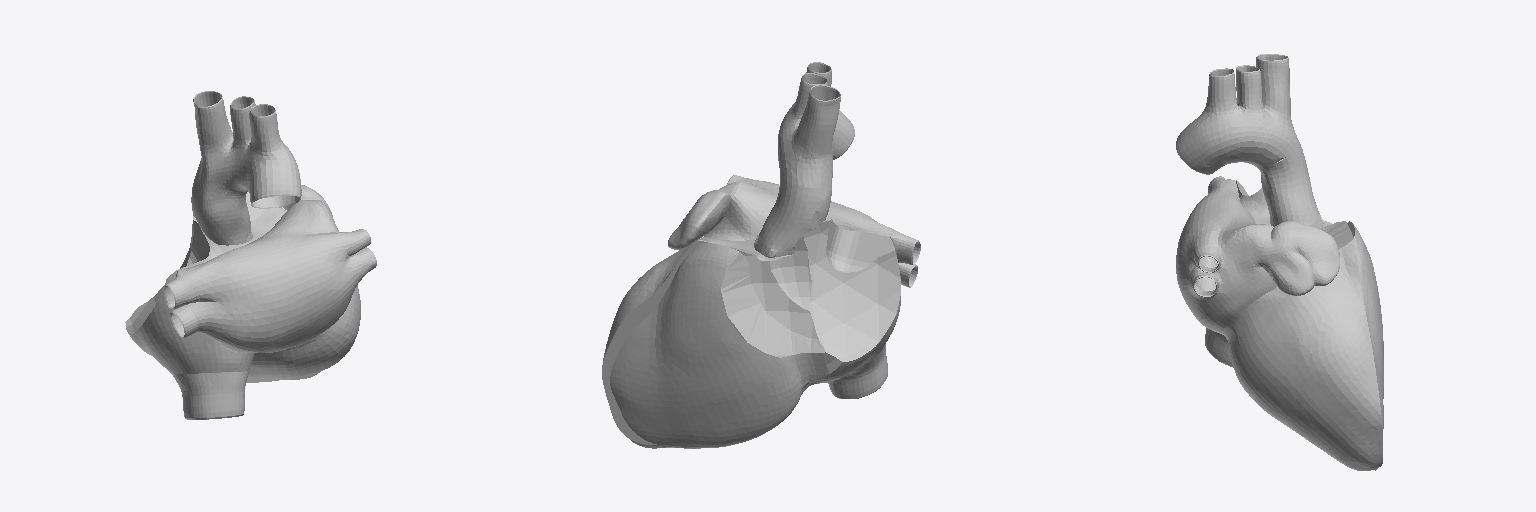
The model's file is HerzhaelfteLinks.obj.
3 renders of one model, left to right at view 1: azimuth 30°, elevation 25°; view 2: azimuth 150°, elevation 25°; view 3: azimuth 270°, elevation 25°, orthographic.
Visible parts, largest first — view 1: linkes_herz; view 2: linkes_herz; view 3: linkes_herz.
Part boxes in pixels (left/top/right/bottom): linkes_herz: left=125, top=91, right=376, bottom=419; linkes_herz: left=602, top=62, right=920, bottom=448; linkes_herz: left=1176, top=54, right=1383, bottom=470.
Bounding box in the file's own units: 142 × 198 × 106.